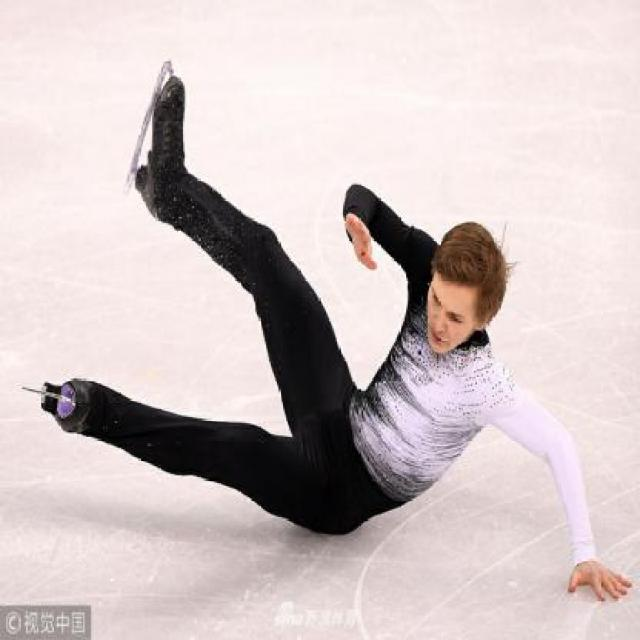fall: (0, 92, 640, 600)
